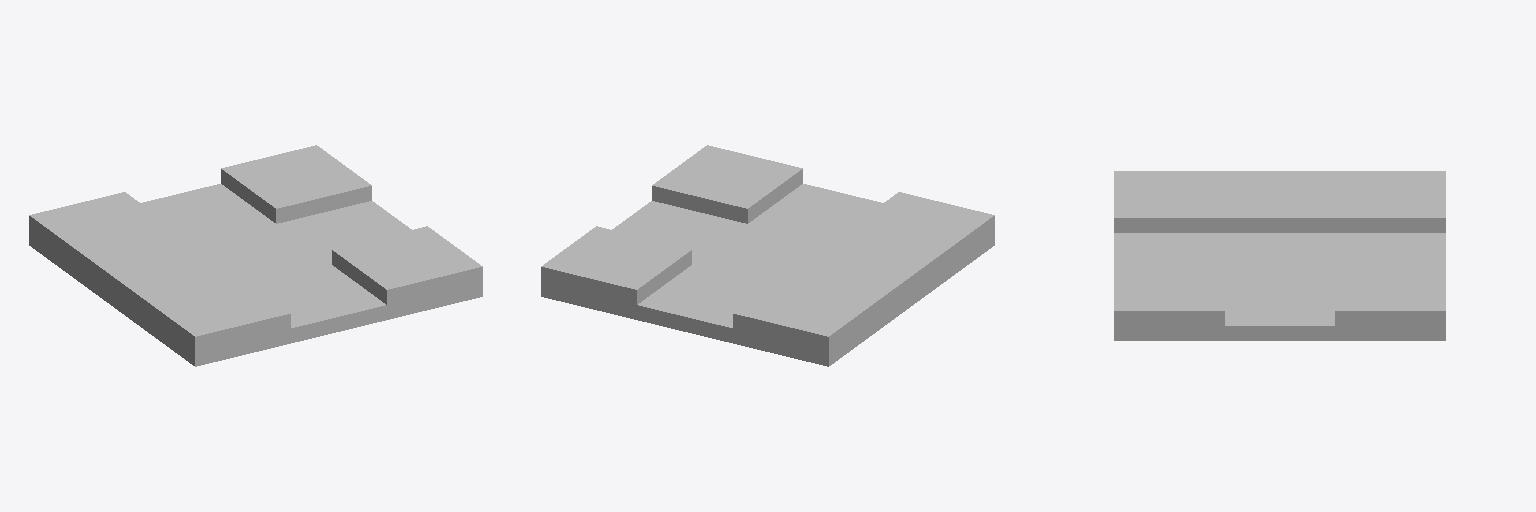
File: ForestRiverCrossingthree.obj
3 views of the same model, side by side, from view 1: azimuth 30°, elevation 25°; view 2: azimuth 150°, elevation 25°; view 3: azimuth 270°, elevation 25° (orthographic).
Visible parts, largest first — view 1: ForestCrossing_02_Plane.098; view 2: ForestCrossing_02_Plane.098; view 3: ForestCrossing_02_Plane.098.
Part boxes in pixels (bbox=[...]): ForestCrossing_02_Plane.098: bbox=[29, 145, 482, 366]; ForestCrossing_02_Plane.098: bbox=[541, 145, 994, 366]; ForestCrossing_02_Plane.098: bbox=[1114, 171, 1445, 340].
Bounding box in the file's own units: 1 × 0.1 × 1.